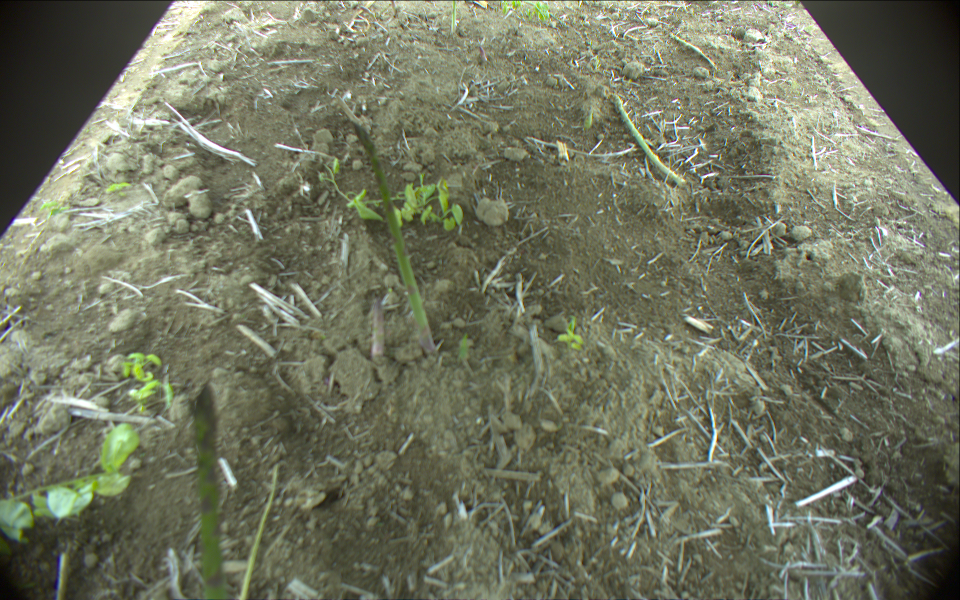aspa: (346, 121, 437, 355), (607, 93, 685, 184), (192, 379, 223, 600), (236, 463, 280, 600), (666, 31, 717, 68), (368, 292, 386, 363)
